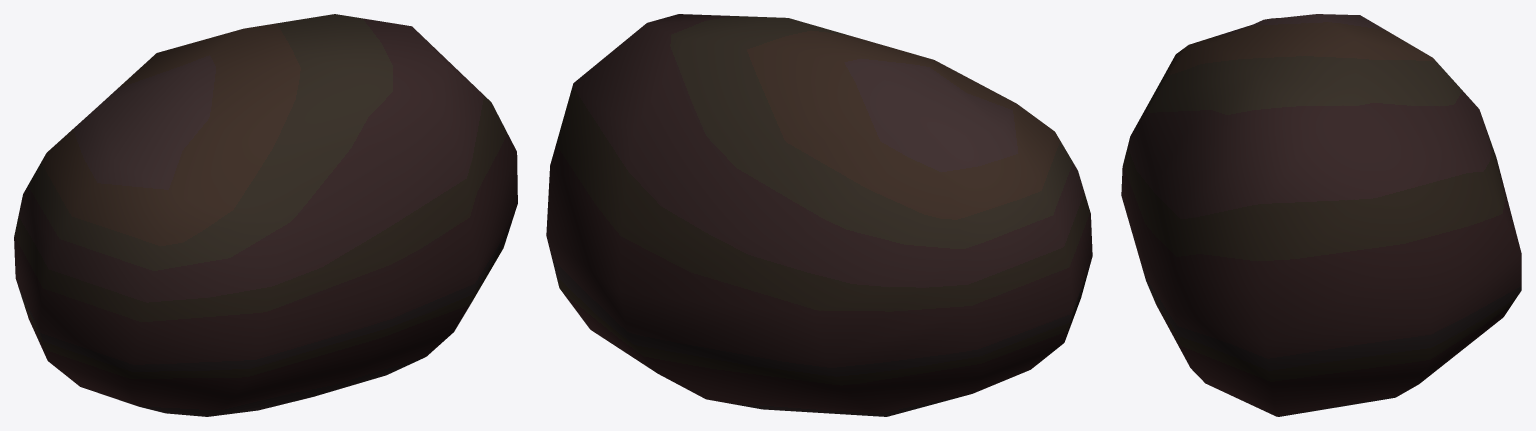
File: SM_Rock_002.fbx
3 renders of one model, left to right at view 1: azimuth 30°, elevation 25°; view 2: azimuth 150°, elevation 25°; view 3: azimuth 270°, elevation 25°, orthographic. The views are drawn at different scales.
Visible parts, largest first — view 1: SM_Rock_002; view 2: SM_Rock_002; view 3: SM_Rock_002.
Part boxes in pixels (<box>): SM_Rock_002: <box>14,14,517,416</box>; SM_Rock_002: <box>546,14,1092,416</box>; SM_Rock_002: <box>1121,14,1521,416</box>.
Size of the model in its own units: 512 by 347 by 384.
